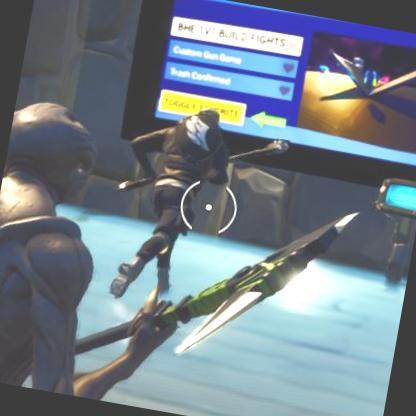person: (104, 90, 244, 310)
